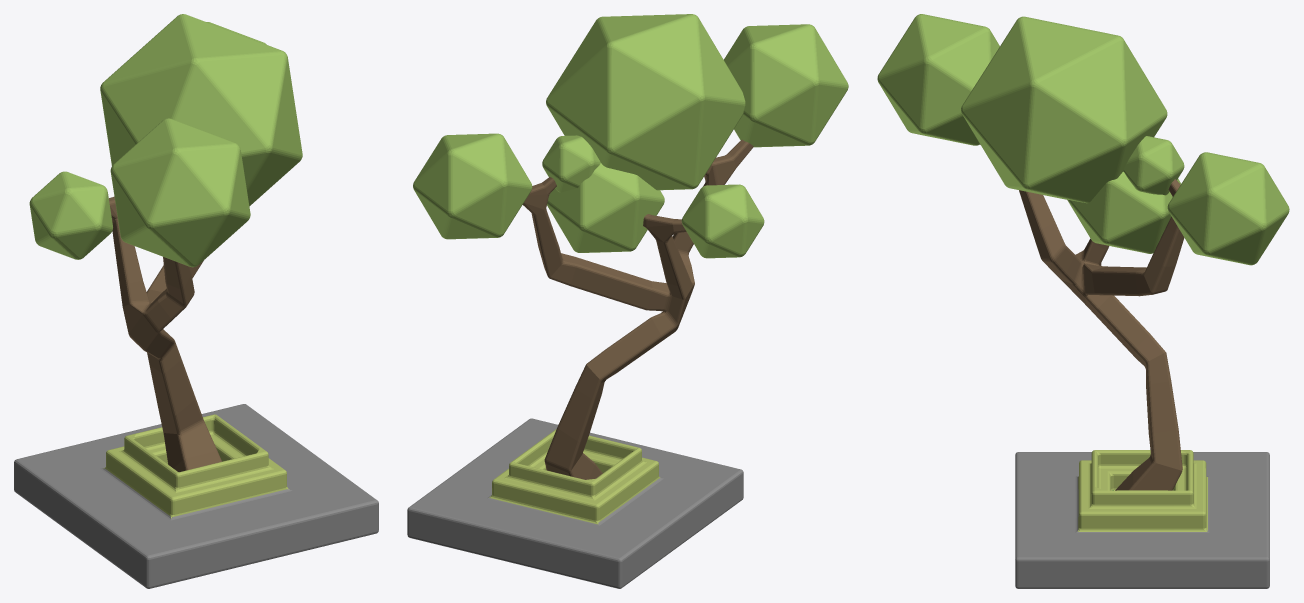
File: crosswalk_withtree.fbx
The picture shows the model from 3 angles, left to right: view 1: azimuth 30°, elevation 25°; view 2: azimuth 150°, elevation 25°; view 3: azimuth 270°, elevation 25°; orthographic projection. The views are drawn at different scales.
Visible parts, largest first — view 1: crosswalk_withtree.001; view 2: crosswalk_withtree.001; view 3: crosswalk_withtree.001.
Boxes of the visible parts, x1=… form: crosswalk_withtree.001: x1=14, y1=14, x2=378, y2=588; crosswalk_withtree.001: x1=407, y1=14, x2=848, y2=588; crosswalk_withtree.001: x1=877, y1=14, x2=1289, y2=588.
Bounding box in the file's own units: 252 × 425 × 324.
